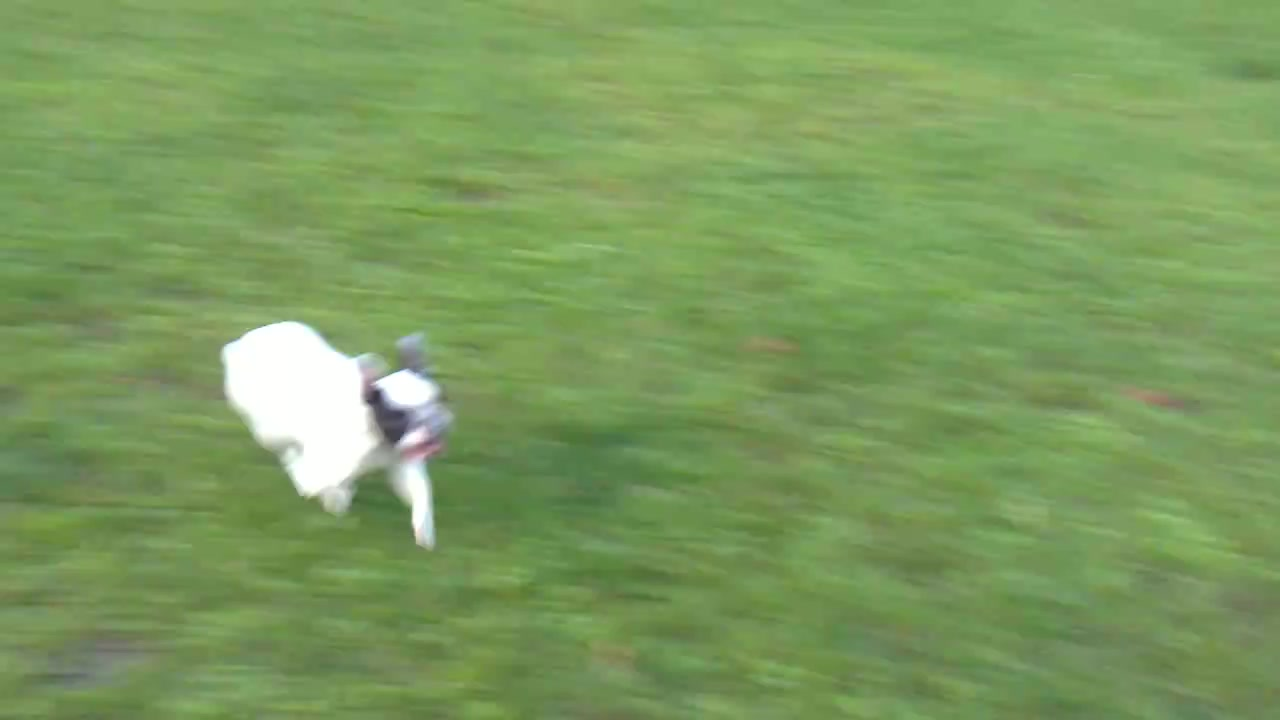dog: (219, 322, 451, 550)
